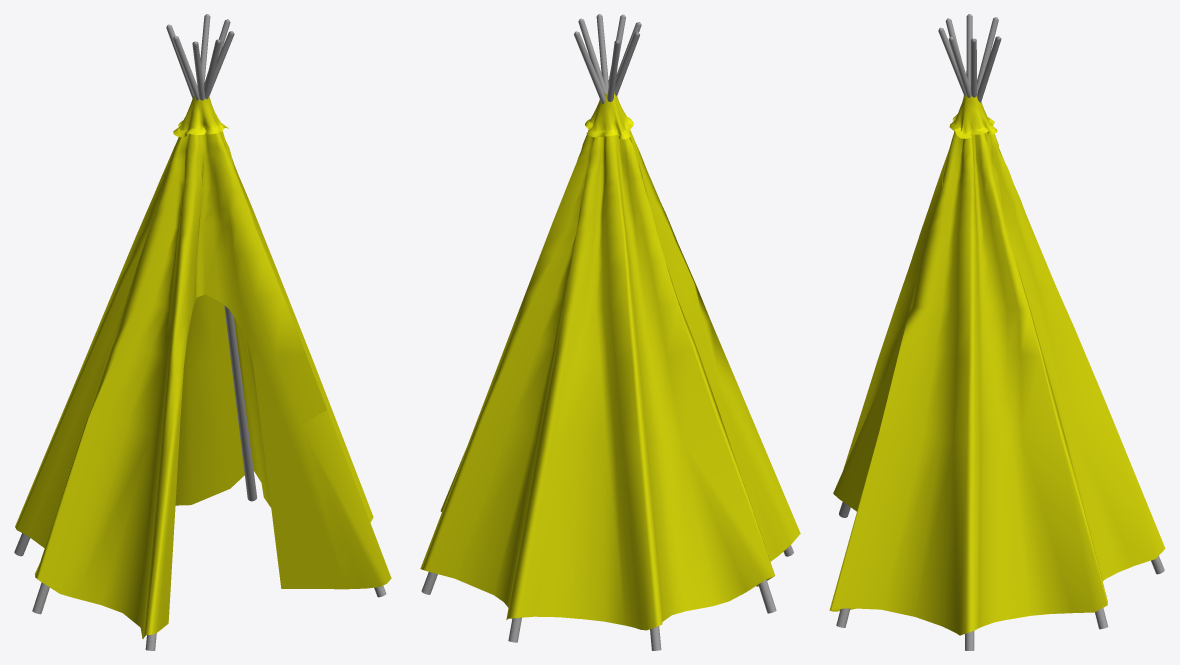
File: tent.fbx
The picture shows the model from 3 angles, left to right: view 1: azimuth 30°, elevation 25°; view 2: azimuth 150°, elevation 25°; view 3: azimuth 270°, elevation 25°; orthographic projection.
Visible parts, largest first — view 1: cap_low2; view 2: cap_low2; view 3: cap_low2.
Part boxes in pixels (x1=…): cap_low2: x1=14, y1=14, x2=391, y2=650; cap_low2: x1=420, y1=14, x2=800, y2=650; cap_low2: x1=829, y1=14, x2=1165, y2=650.
Size of the model in its own units: 254 by 397 by 221.
